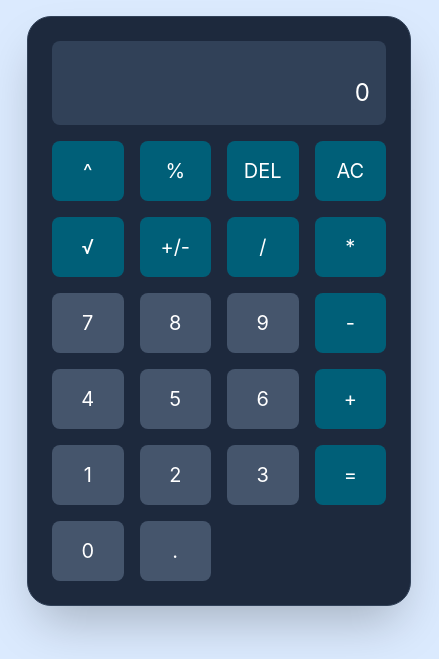
Test: App › keeps the current operand and operator in pending calculation while waiting for the second operand
Click the button "1" at (88, 475), box x1=52 y1=445 x2=124 y2=505
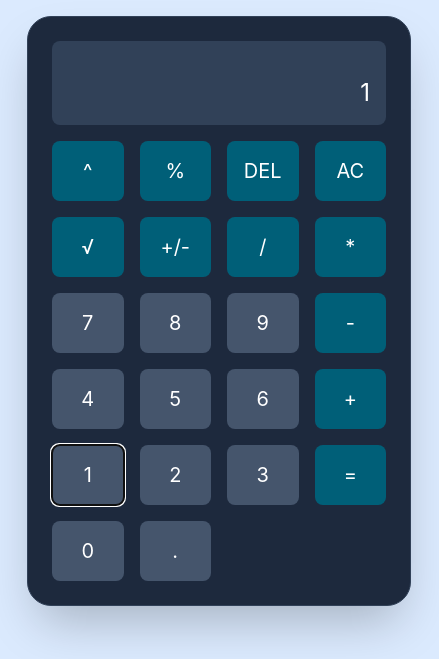
Click the button "2" at (175, 475), box x1=140 y1=445 x2=211 y2=505
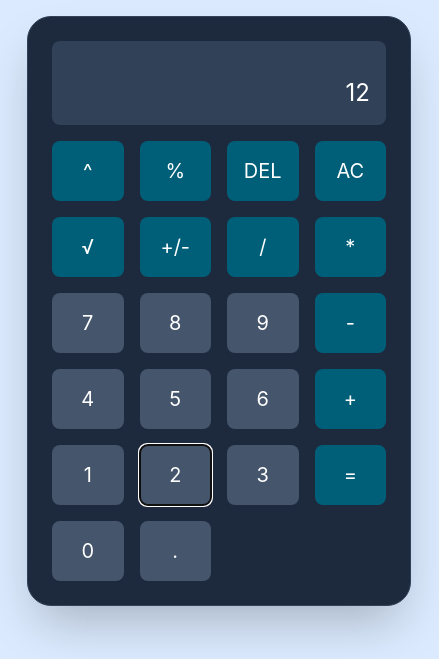
Click the button "3" at (263, 475), box x1=227 y1=445 x2=298 y2=505
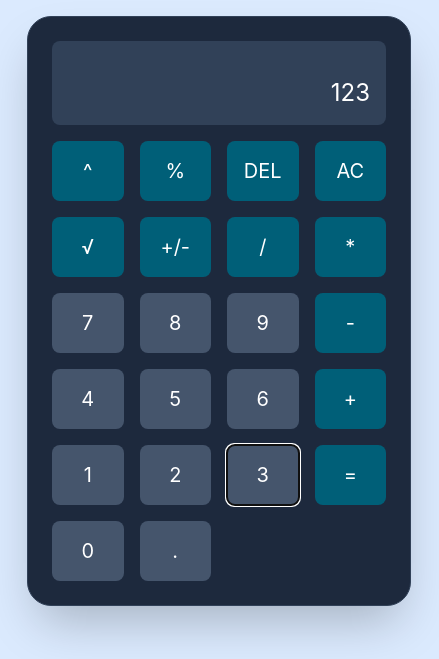
Click the button "+" at (350, 399), box x1=314 y1=369 x2=386 y2=429
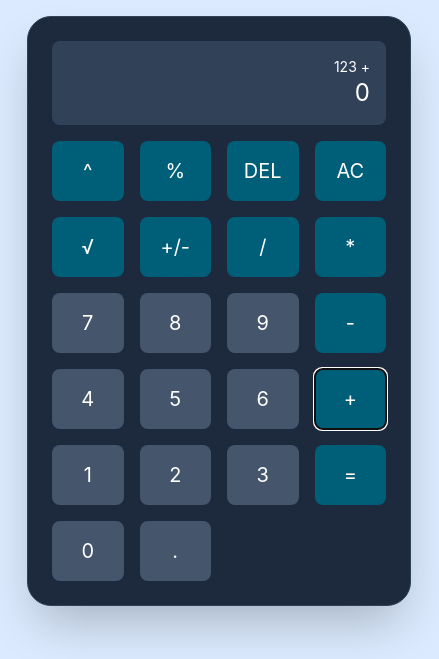
Expected: the text with test id "display-value" reads "0", x1=355 y1=78 x2=370 y2=107
